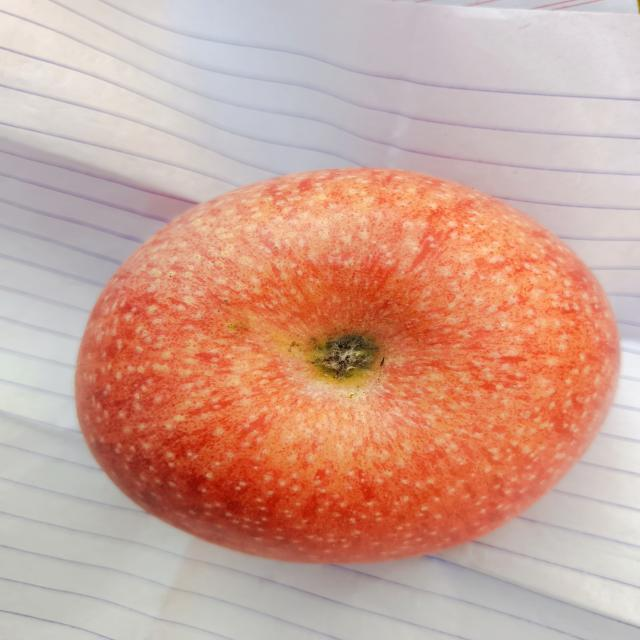Fresh Apple: (75, 163, 616, 563)
